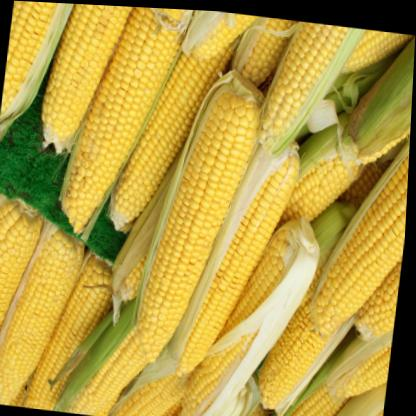corn: (127, 56, 277, 381), (96, 4, 253, 251), (171, 124, 307, 394), (42, 2, 190, 245), (298, 124, 411, 348), (24, 236, 132, 416), (0, 216, 92, 413), (34, 2, 141, 157), (0, 192, 49, 406), (0, 0, 62, 143)
